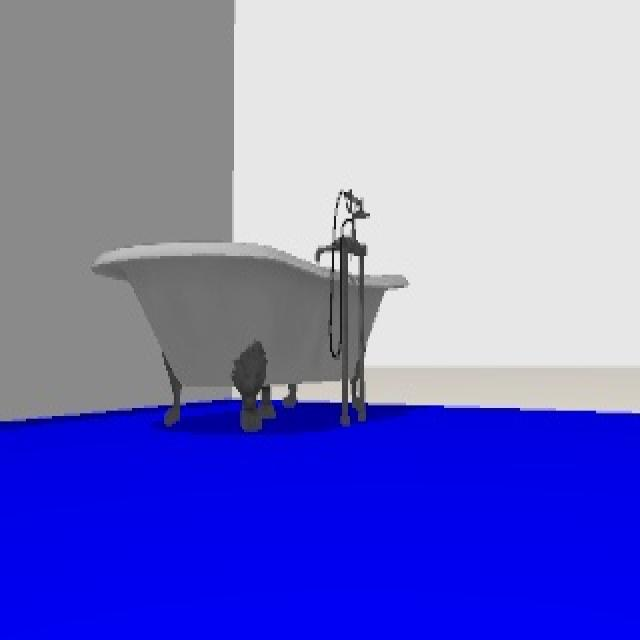bathtub: (94, 182, 413, 431)
